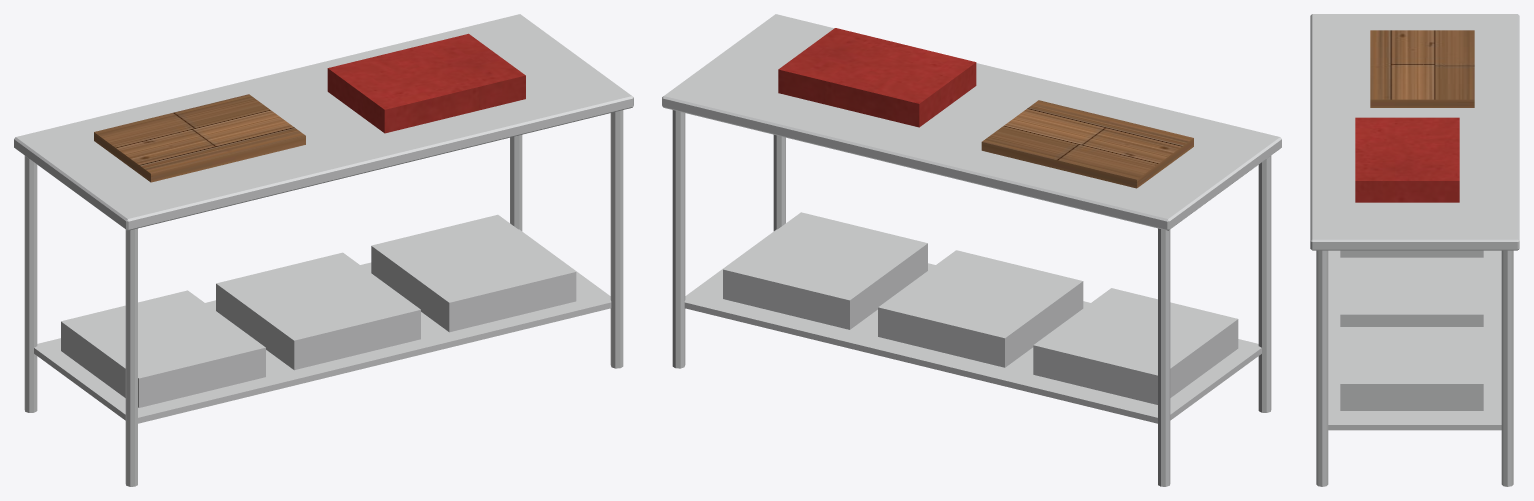
Rendered from prep_table.glb.
3 views of the same model, side by side, from view 1: azimuth 30°, elevation 25°; view 2: azimuth 150°, elevation 25°; view 3: azimuth 270°, elevation 25° (orthographic). The views are drawn at different scales.
Parts seen in each view (by area): view 1: prep_table_steel, prep_table_red, prep_table_wood; view 2: prep_table_steel, prep_table_red, prep_table_wood; view 3: prep_table_steel, prep_table_red, prep_table_wood.
Boxes of the visible parts, left/top/right/bottom form: prep_table_steel: left=14, top=14, right=633, bottom=486; prep_table_red: left=327, top=33, right=525, bottom=133; prep_table_wood: left=94, top=94, right=305, bottom=182; prep_table_steel: left=662, top=14, right=1281, bottom=486; prep_table_red: left=778, top=28, right=976, bottom=127; prep_table_wood: left=981, top=100, right=1193, bottom=188; prep_table_steel: left=1310, top=14, right=1519, bottom=486; prep_table_red: left=1355, top=117, right=1459, bottom=202; prep_table_wood: left=1370, top=30, right=1474, bottom=107.
Bounding box in the file's own units: 1.8 × 1 × 0.7.
3 materials, 2 textured.
